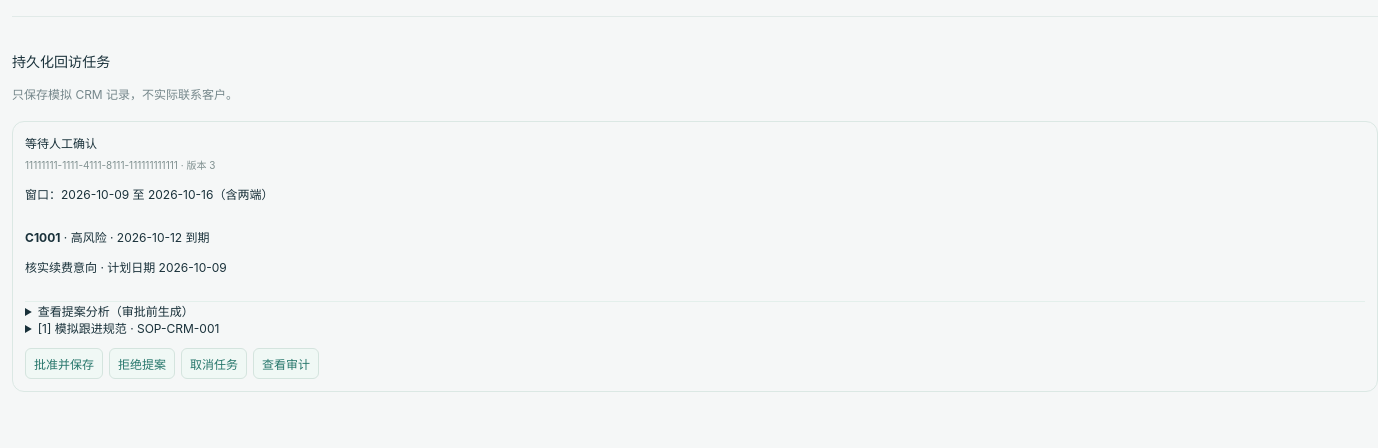
polls proposal, requires human confirmation and submits versioned idempotent decision
Expected: the text "C1001" is shown, [25,230,60,245]
Click the button "批准并保存".
click(64, 363)  # box [25,348,103,379]
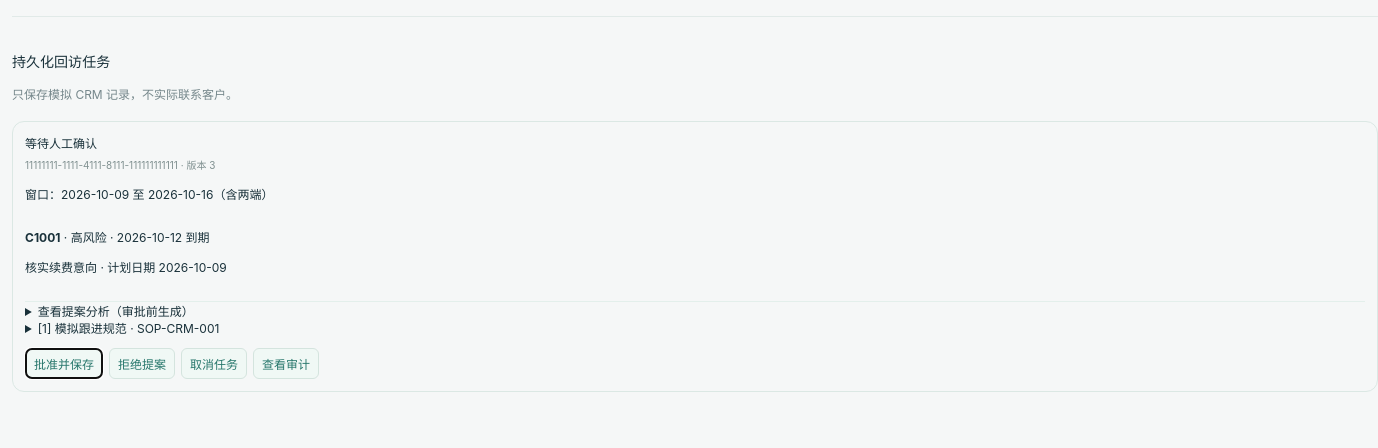
Click the button "批准并保存".
click(64, 363)  # box [25,348,103,379]
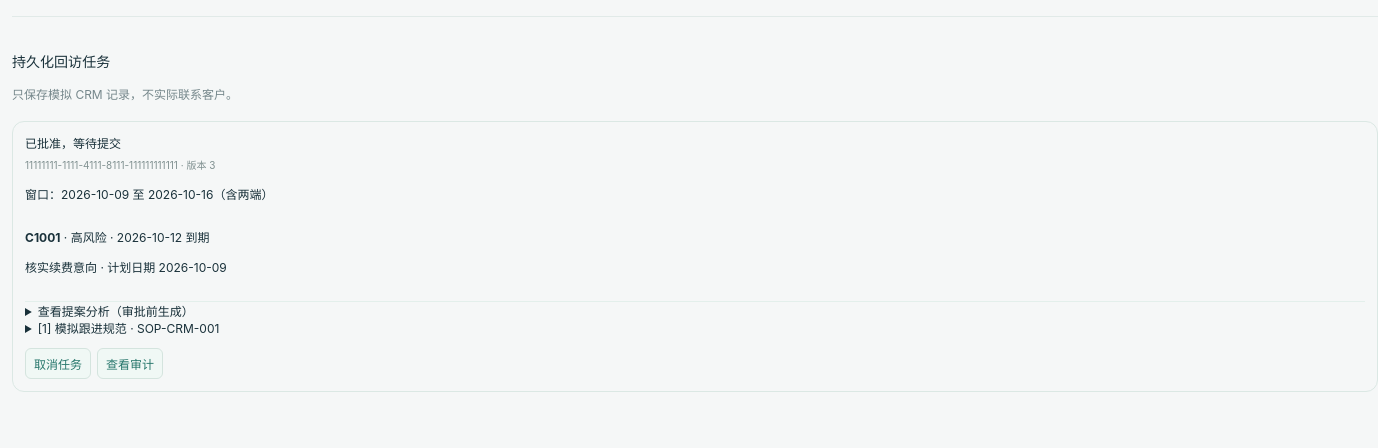
Expected: the text "已批准，等待提交" is shown, [25,136,121,152]
Click the button "查看审计".
click(130, 363)  # box [97,348,163,379]
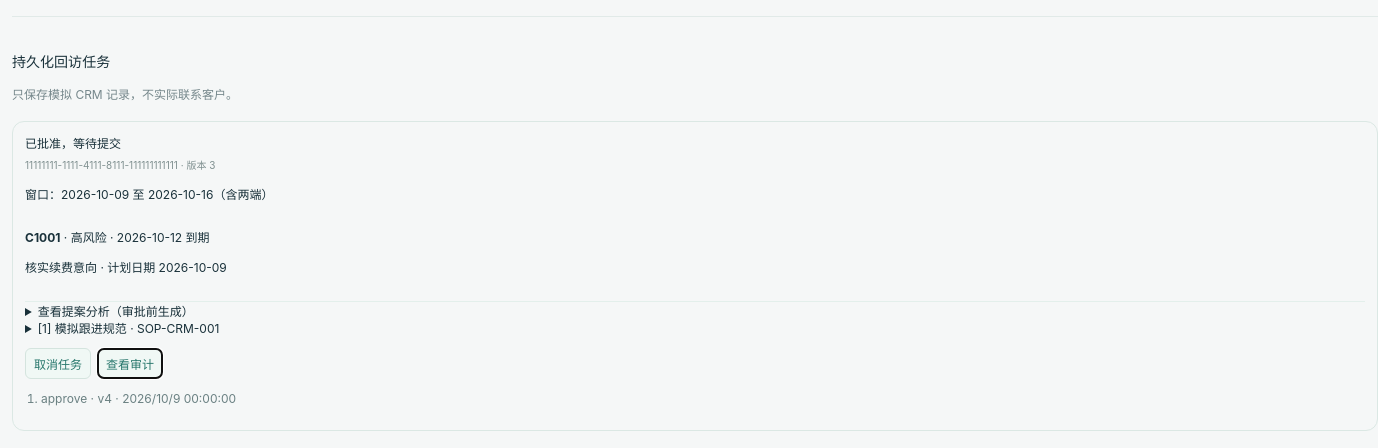
Expected: the list item "approve · v4 · 2026/10/9 00:00:00" is shown, [41,391,236,406]
